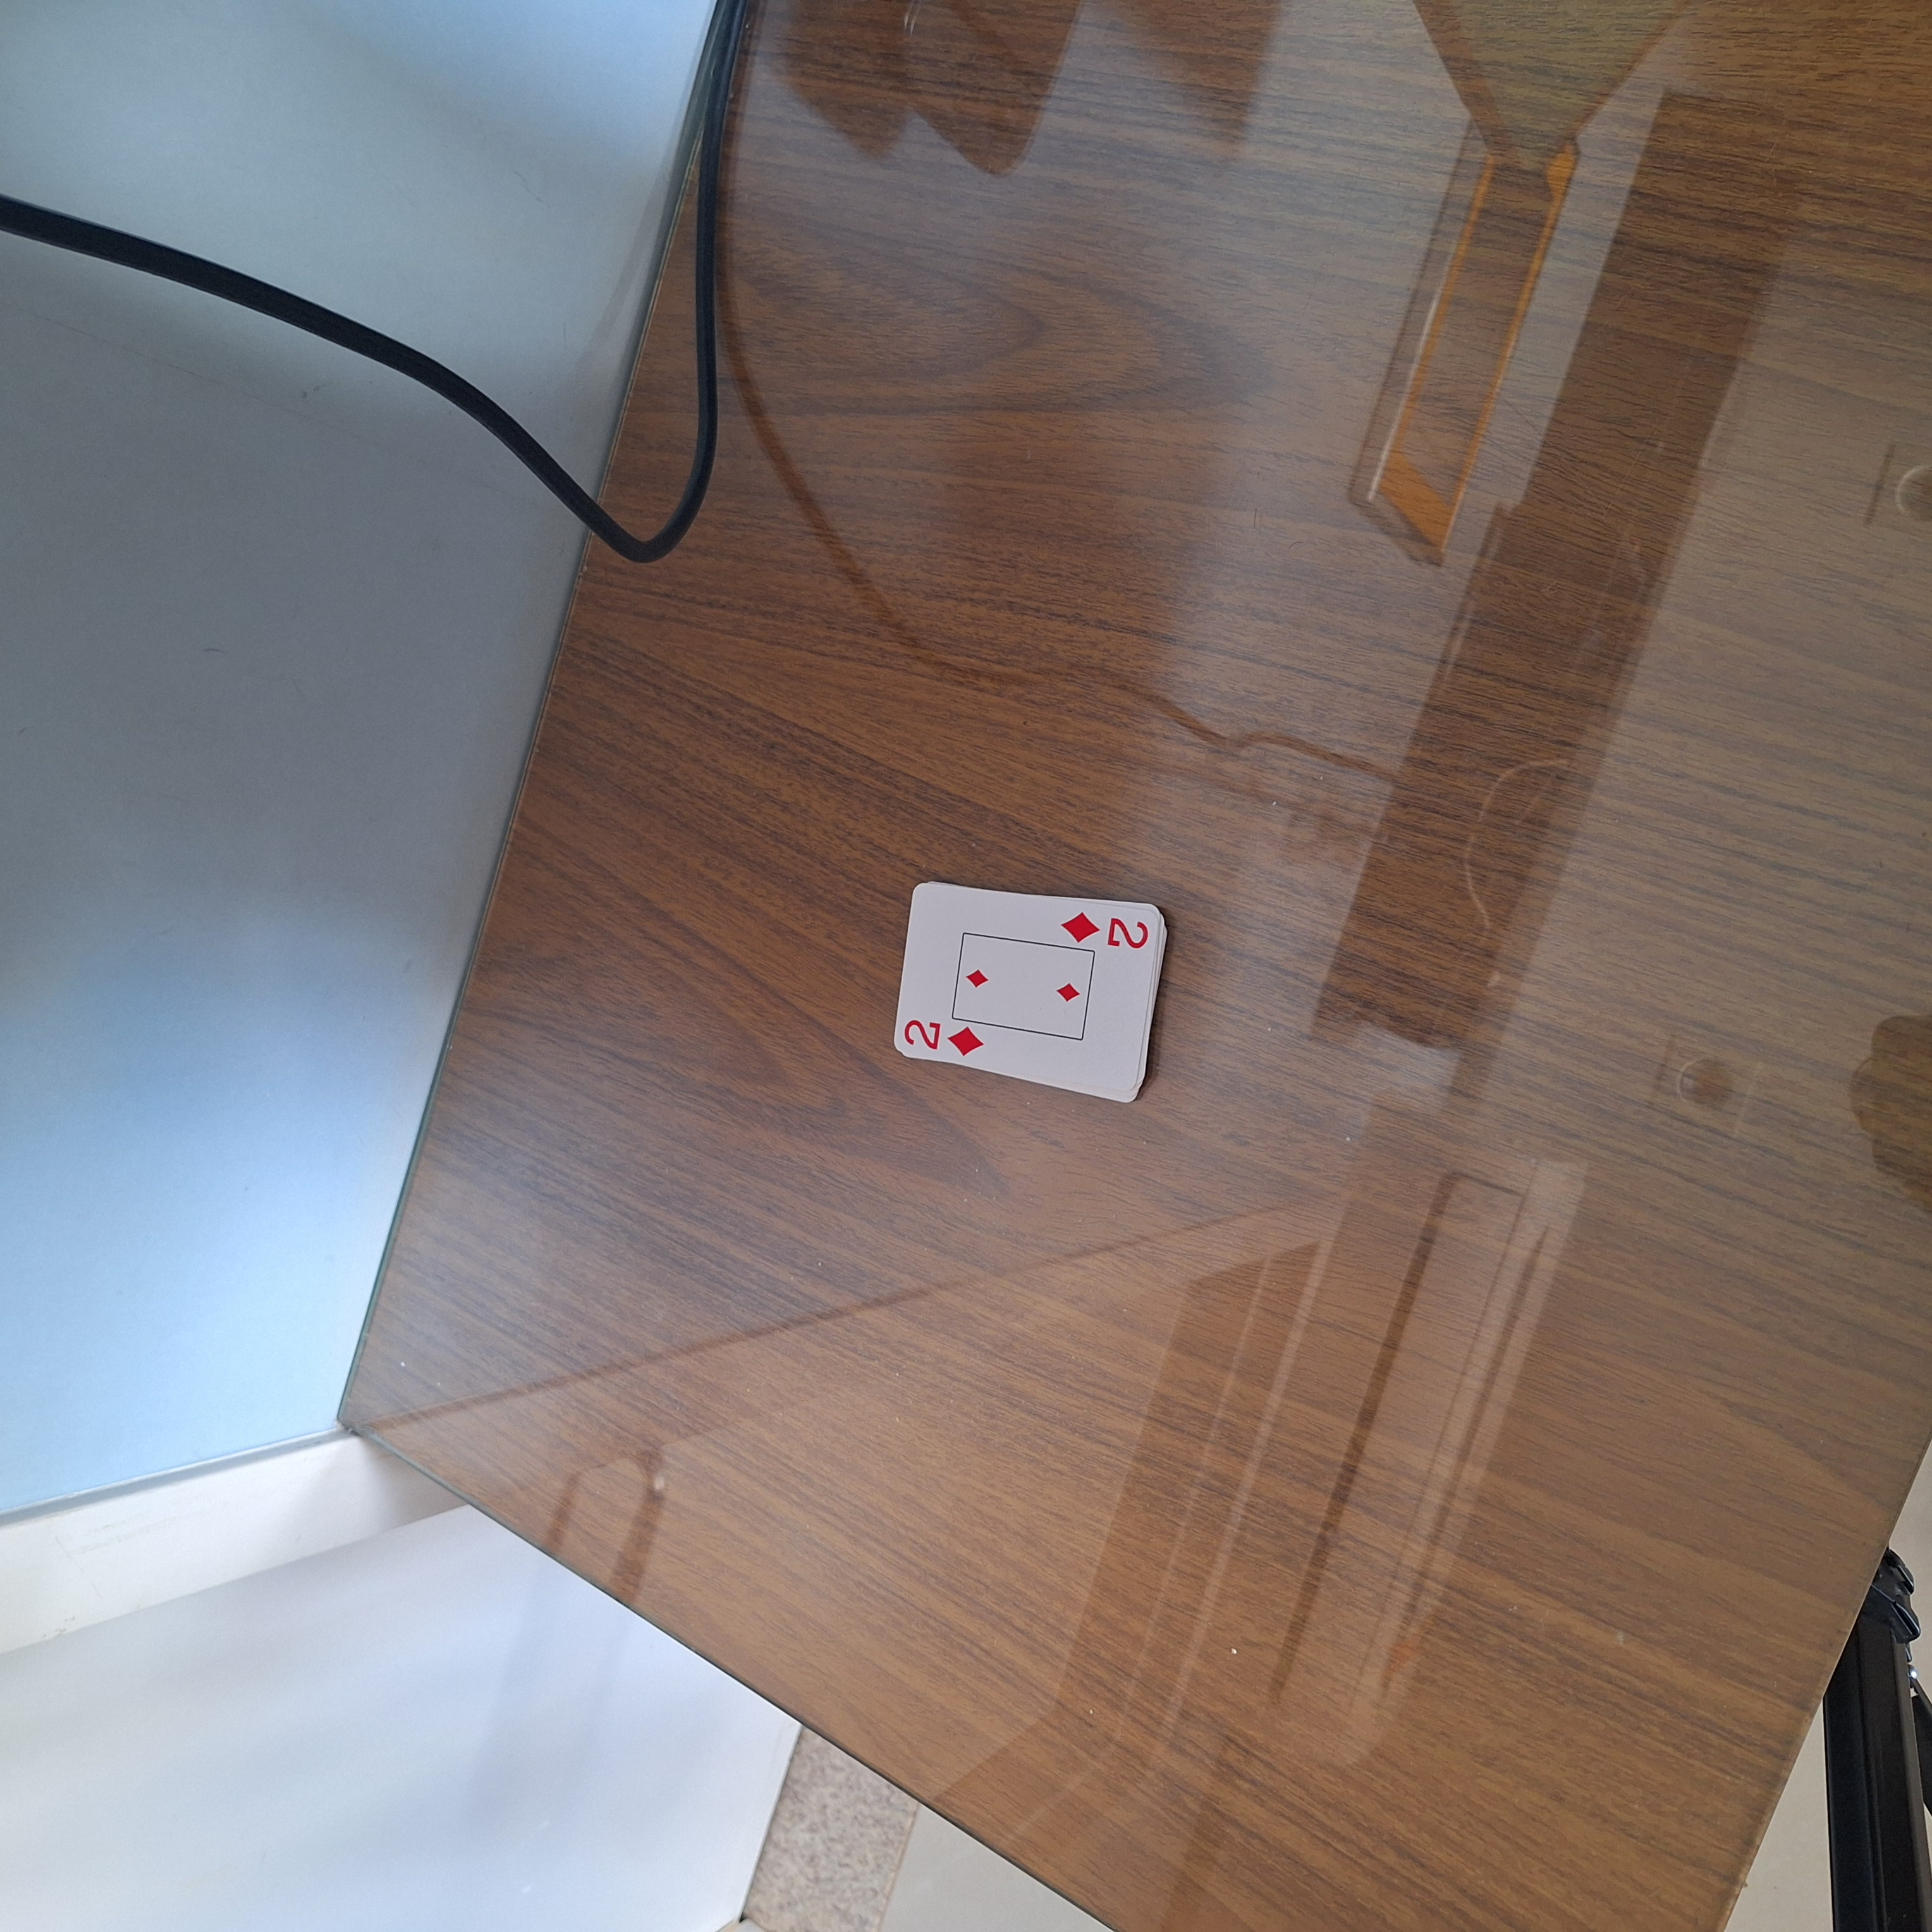2O: (1056, 906, 1154, 957), (899, 1014, 984, 1067)
